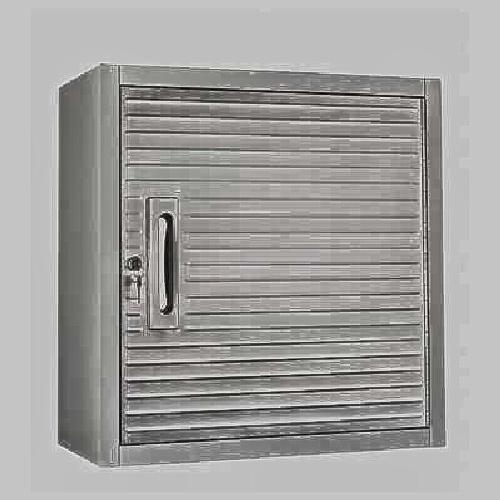cabinet: (61, 53, 449, 466)
